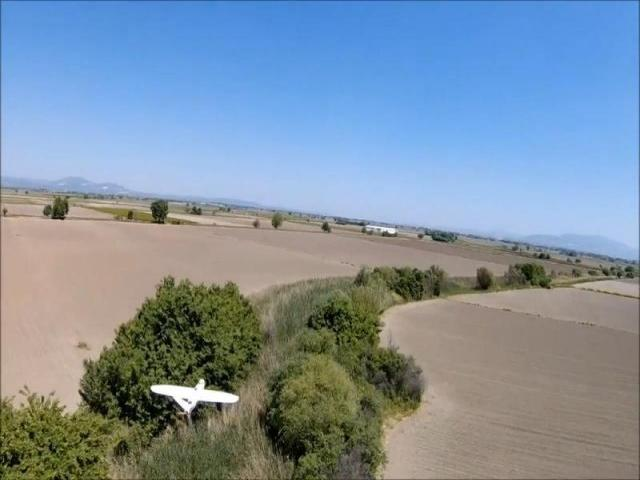hedef: (150, 373, 242, 423)
